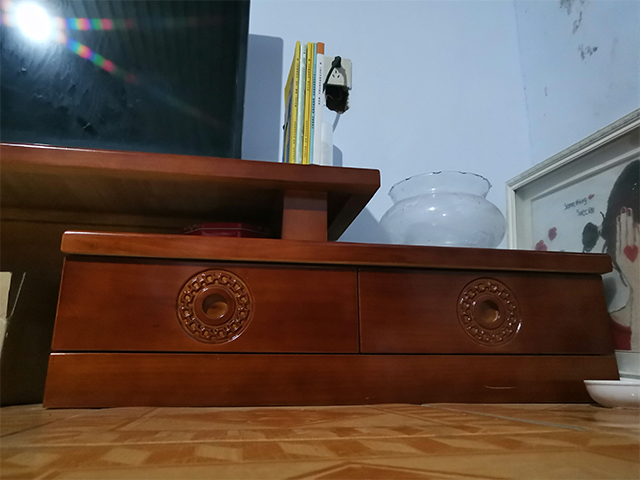cabinet: (1, 141, 620, 410)
